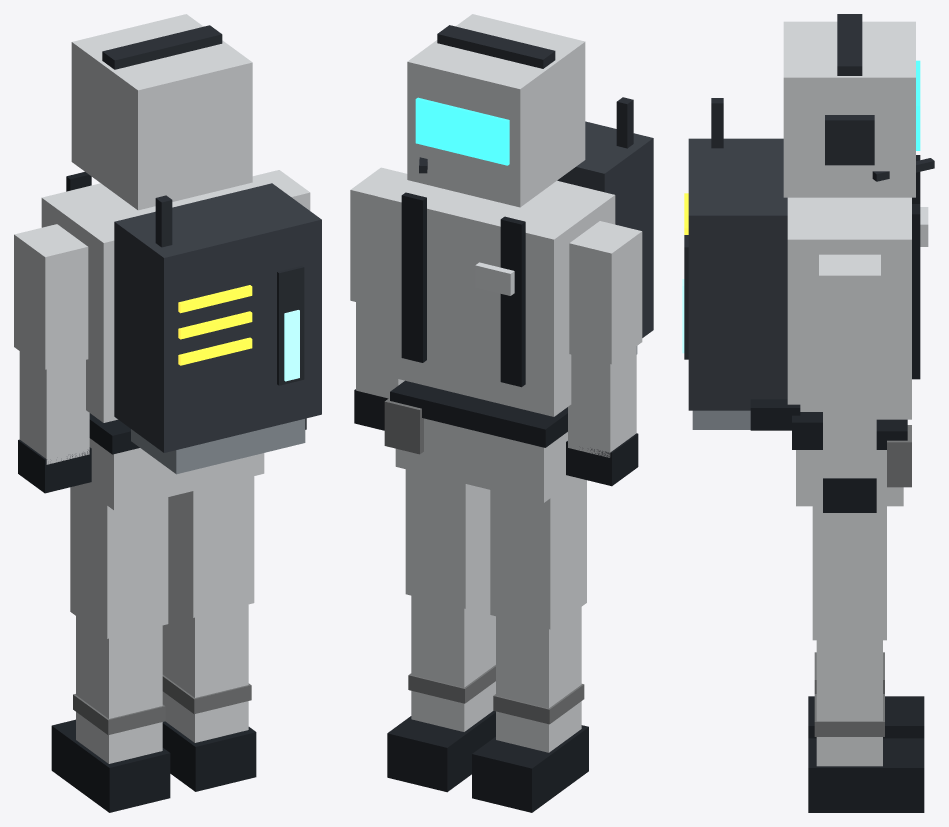
Rendered from ion_rig_white.glb.
3 renders of one model, left to right at view 1: azimuth 30°, elevation 25°; view 2: azimuth 150°, elevation 25°; view 3: azimuth 270°, elevation 25°, orthographic.
Visible parts, largest first — view 1: Merged4, Merged, Merged5, Merged6, _MeshInstance3D_3137, _MeshInstance3D_3148, _MeshInstance3D_3132, Merged2, Merged7, _MeshInstance3D_3143; view 2: Merged4, Merged, Merged5, Merged6, Merged7, _MeshInstance3D_3137, _MeshInstance3D_3148, _MeshInstance3D_3132, Merged2, _MeshInstance3D_3143, Merged3; view 3: Merged4, Merged, Merged6, _MeshInstance3D_3148, _MeshInstance3D_3143, Merged3, Merged7, Merged5.
Boxes of the visible parts, x1=… form: Merged4: x1=41, y1=172, x2=321, y2=474; Merged: x1=71, y1=14, x2=252, y2=210; Merged5: x1=51, y1=616, x2=170, y2=812; Merged6: x1=162, y1=600, x2=256, y2=791; _MeshInstance3D_3137: x1=70, y1=485, x2=168, y2=638; _MeshInstance3D_3148: x1=168, y1=476, x2=254, y2=617; _MeshInstance3D_3132: x1=14, y1=224, x2=88, y2=369; Merged2: x1=18, y1=351, x2=91, y2=493; Merged7: x1=79, y1=413, x2=264, y2=510; _MeshInstance3D_3143: x1=252, y1=170, x2=310, y2=210; Merged4: x1=377, y1=97, x2=653, y2=416; Merged: x1=407, y1=14, x2=585, y2=207; Merged5: x1=472, y1=607, x2=588, y2=812; Merged6: x1=387, y1=591, x2=495, y2=792; Merged7: x1=384, y1=380, x2=577, y2=502; _MeshInstance3D_3137: x1=490, y1=478, x2=586, y2=629; _MeshInstance3D_3148: x1=405, y1=469, x2=490, y2=608; _MeshInstance3D_3132: x1=569, y1=221, x2=642, y2=364; Merged2: x1=566, y1=346, x2=638, y2=486; _MeshInstance3D_3143: x1=350, y1=167, x2=407, y2=307; Merged3: x1=354, y1=302, x2=404, y2=430; Merged4: x1=682, y1=98, x2=928, y2=444; Merged: x1=783, y1=14, x2=934, y2=197; Merged6: x1=808, y1=640, x2=924, y2=812; _MeshInstance3D_3148: x1=812, y1=506, x2=886, y2=640; _MeshInstance3D_3143: x1=819, y1=254, x2=880, y2=387; Merged3: x1=823, y1=388, x2=876, y2=512; Merged7: x1=792, y1=419, x2=911, y2=506; Merged5: x1=808, y1=652, x2=924, y2=738.
Size of the model in its own units: 0.74 by 1.97 by 0.61.
